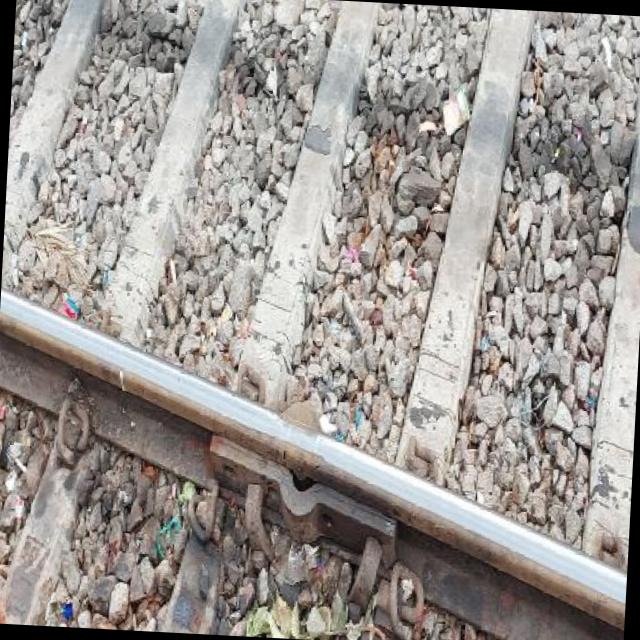defective: (149, 383, 432, 518)
